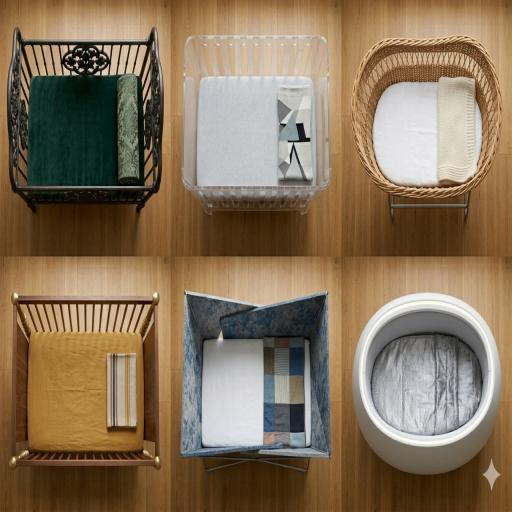crib: (7, 28, 163, 211), (352, 36, 501, 219), (353, 293, 501, 474), (181, 292, 330, 471), (10, 293, 161, 469), (182, 36, 330, 213)
